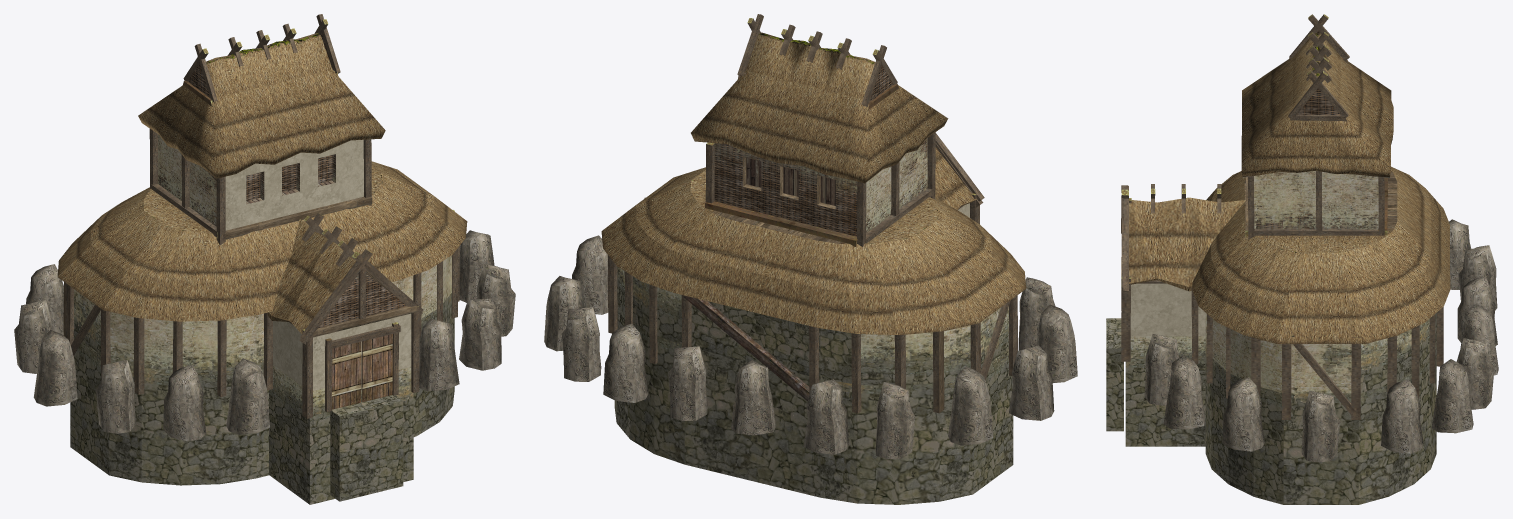
The model's file is temple_01.dae.
3 renders of one model, left to right at view 1: azimuth 30°, elevation 25°; view 2: azimuth 150°, elevation 25°; view 3: azimuth 270°, elevation 25°, orthographic. The views are drawn at different scales.
Visible parts, largest first — view 1: temple; view 2: temple; view 3: temple.
Part boxes in pixels (x1,y1,x2,y2): temple: (14, 14, 515, 504); temple: (544, 14, 1077, 504); temple: (1106, 14, 1498, 504).
Size of the model in its own units: 30.19 by 22.93 by 24.43.
